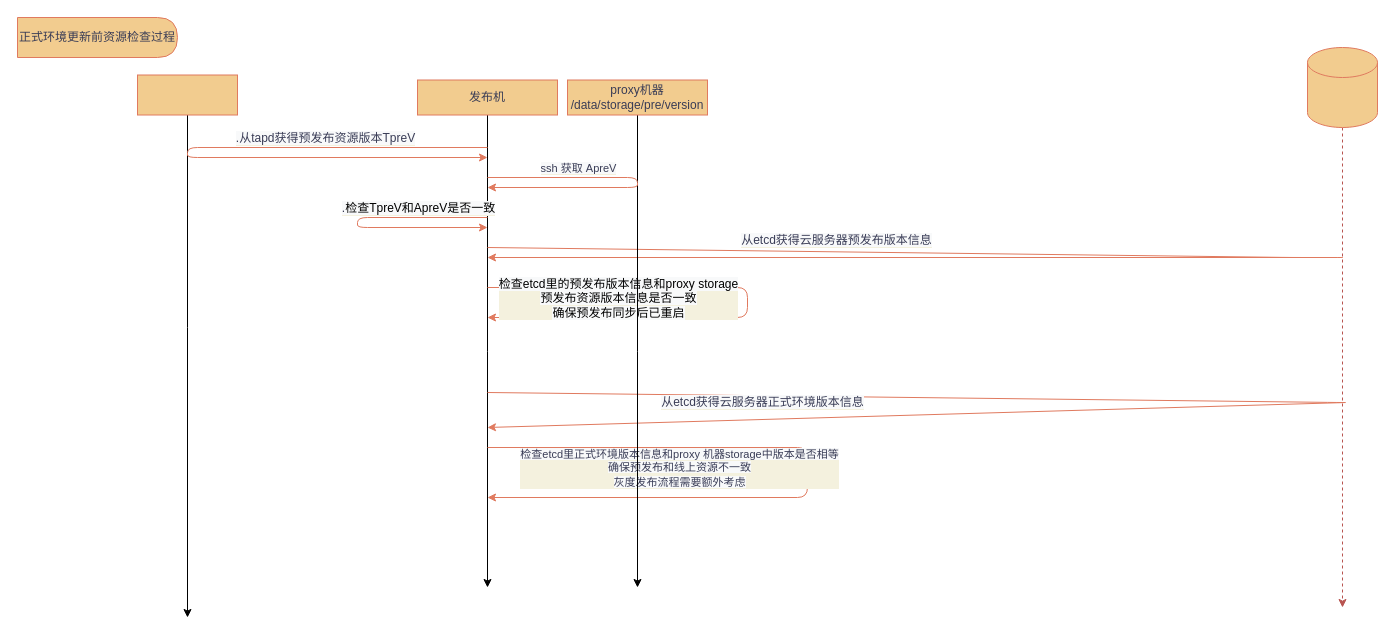
The diagram is 1395 pixels wide and 643 high, and some of its shapes have lost their labels. The shapes that lost their labels are listed below. From the top down, each one's box as (x1, y1, x2, y2) in pixels, then its label:
(136, 74, 238, 115): tapd
(1306, 46, 1378, 128): etcd
